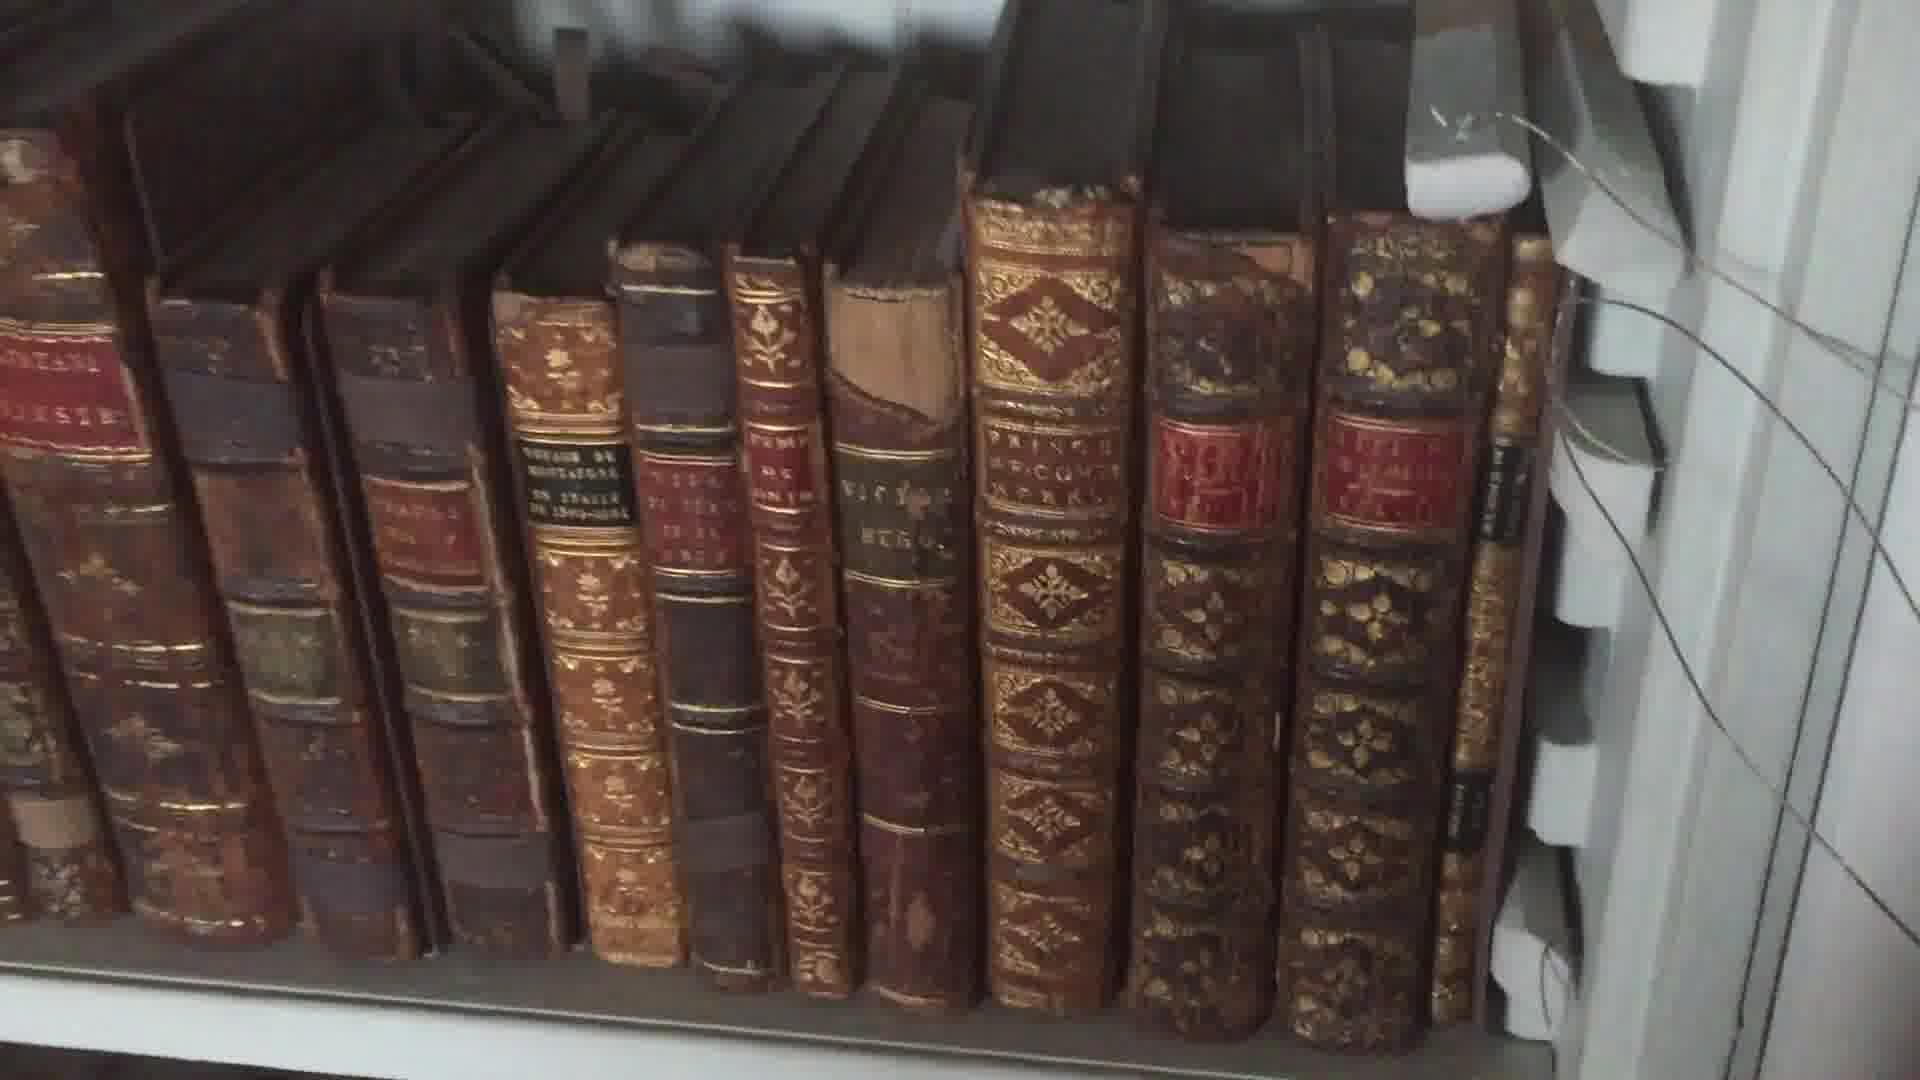Aa6-39_40: (136, 258, 570, 948)
Aa6-41: (469, 278, 676, 1005)
Aa6-42: (597, 212, 808, 982)
Aa6-43: (746, 247, 870, 990)
Aa6-44: (825, 261, 985, 1031)
Aa6-45: (971, 166, 1131, 1044)
Aa6-46-47: (1126, 200, 1437, 1075)
Aa6-48: (1455, 214, 1560, 1068)
